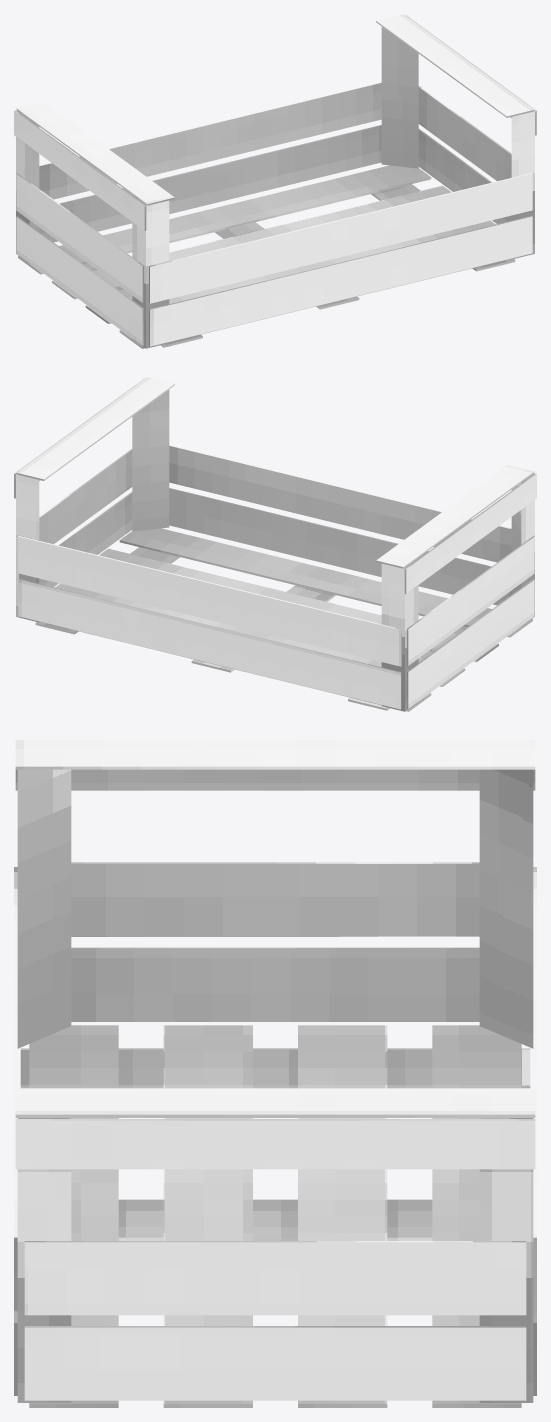
File: CrateWoodenOpen.glb
3 renders of one model, top to bottom at view 1: azimuth 30°, elevation 25°; view 2: azimuth 150°, elevation 25°; view 3: azimuth 270°, elevation 25°, orthographic. The views are drawn at different scales.
Parts seen in each view (by area): view 1: CrateWoodenOpen; view 2: CrateWoodenOpen; view 3: CrateWoodenOpen.
Boxes of the visible parts, <box> form: CrateWoodenOpen: <box>14,14,536,348</box>; CrateWoodenOpen: <box>14,377,536,711</box>; CrateWoodenOpen: <box>14,740,536,1407</box>.
Size of the model in its own units: 0.502 by 0.182 by 0.292.
Materials: 1 (1 with a texture image).
